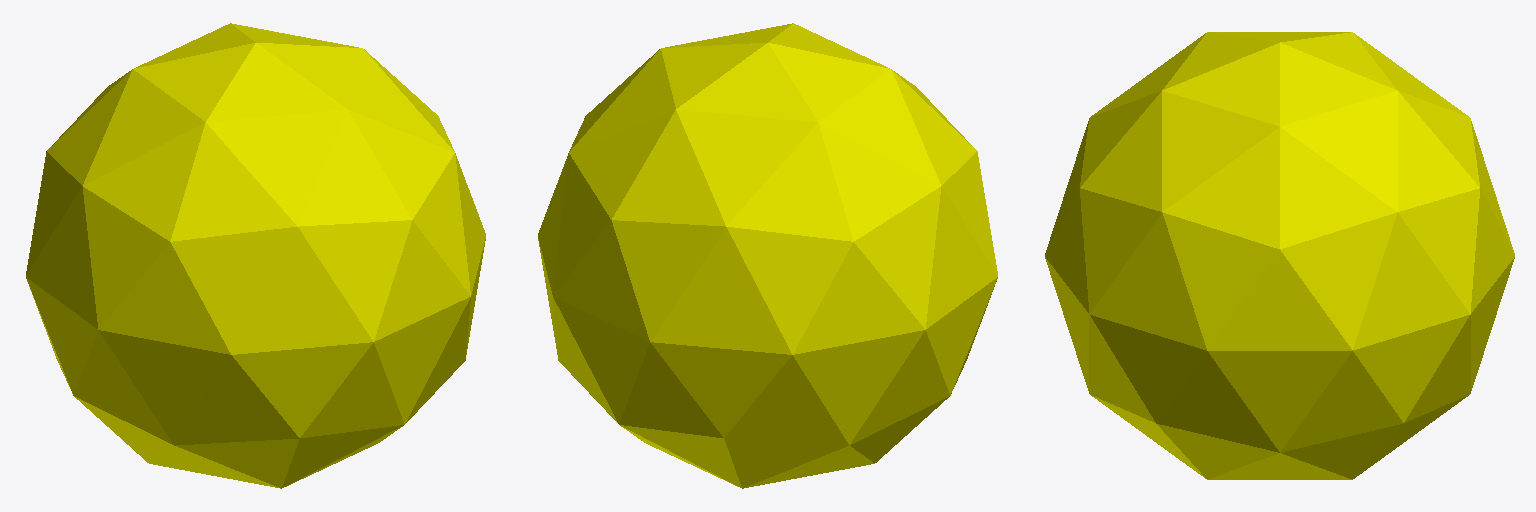
The model's file is sphereRouge.obj.
The picture shows the model from 3 angles: view 1: azimuth 30°, elevation 25°; view 2: azimuth 150°, elevation 25°; view 3: azimuth 270°, elevation 25°; orthographic projection.
Visible parts, largest first — view 1: Icosphere; view 2: Icosphere; view 3: Icosphere.
Boxes of the visible parts, <box> form: Icosphere: <box>26,23,485,488</box>; Icosphere: <box>538,23,997,488</box>; Icosphere: <box>1045,32,1514,479</box>.
Size of the model in its own units: 1.9 by 2 by 2.